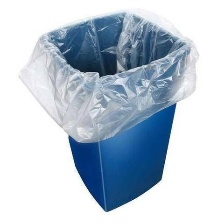plastic_bag: (16, 2, 205, 145)
